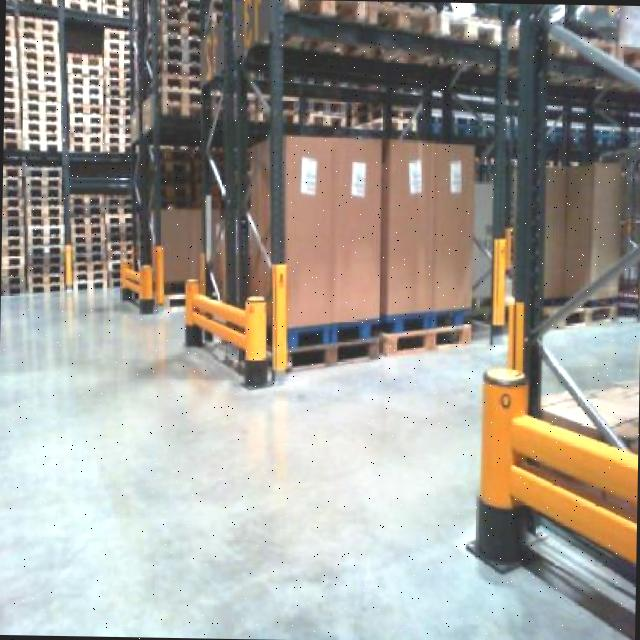pallet: (276, 328, 386, 383), (379, 316, 470, 368)
